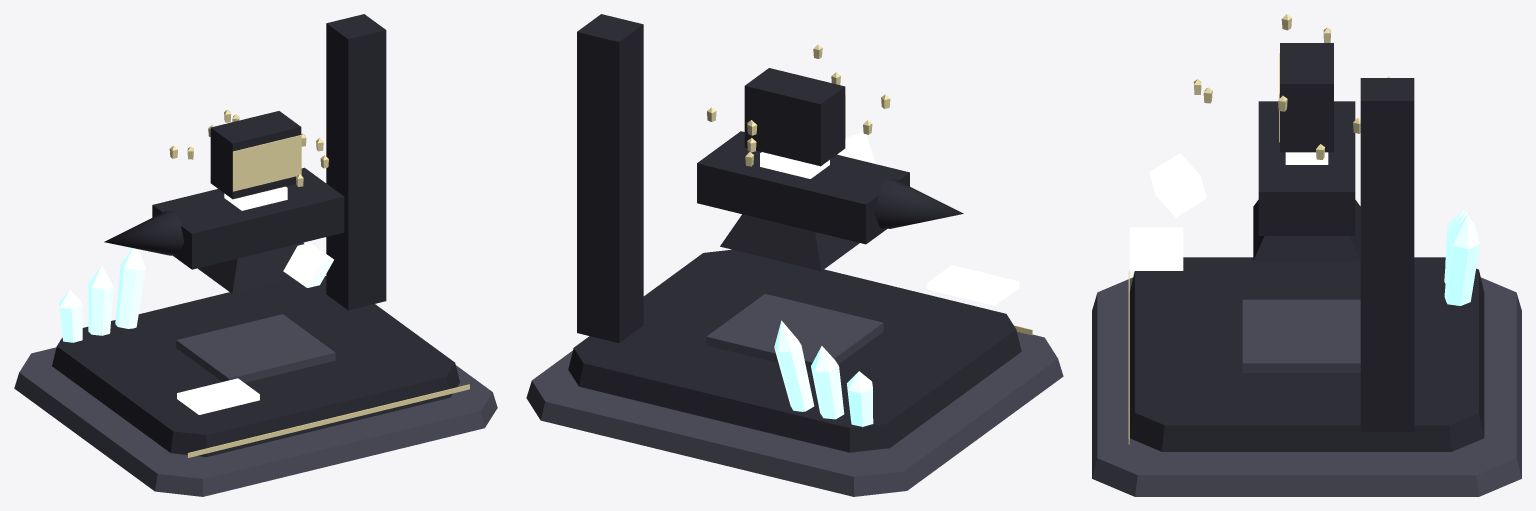
Rendered from StarforgeAnvilDropper_Roblox.fbx.
3 renders of one model, left to right at view 1: azimuth 30°, elevation 25°; view 2: azimuth 150°, elevation 25°; view 3: azimuth 270°, elevation 25°, orthographic. The views are drawn at different scales.
Parts seen in each view (by area): view 1: DarkPlate, SteelPlate, AccentNeon, Crystal, CoreGlow, Ore; view 2: DarkPlate, SteelPlate, Crystal, CoreGlow, AccentNeon, Ore; view 3: DarkPlate, SteelPlate, CoreGlow, Crystal, Ore, AccentNeon.
Boxes of the visible parts, left/top/right/bottom form: DarkPlate: left=52, top=14, right=459, bottom=456; SteelPlate: left=14, top=314, right=497, bottom=496; AccentNeon: left=169, top=109, right=469, bottom=457; Crystal: left=59, top=248, right=145, bottom=342; CoreGlow: left=177, top=186, right=287, bottom=414; Ore: left=283, top=243, right=333, bottom=287; DarkPlate: left=568, top=14, right=1021, bottom=452; SteelPlate: left=526, top=294, right=1063, bottom=496; Crystal: left=774, top=320, right=873, bottom=427; CoreGlow: left=760, top=152, right=1019, bottom=305; AccentNeon: left=707, top=44, right=1032, bottom=335; Ore: left=837, top=132, right=875, bottom=163; DarkPlate: left=1129, top=43, right=1484, bottom=451; SteelPlate: left=1092, top=277, right=1521, bottom=496; CoreGlow: left=1129, top=152, right=1328, bottom=270; Crystal: left=1444, top=210, right=1479, bottom=305; Ore: left=1149, top=153, right=1206, bottom=217; AccentNeon: left=1128, top=14, right=1390, bottom=444.
Bounding box in the file's own units: 900 × 880 × 800.
